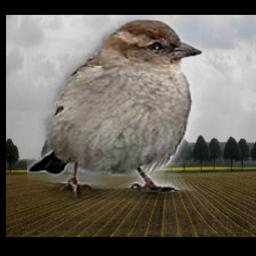Sparrow: (27, 19, 202, 200)
